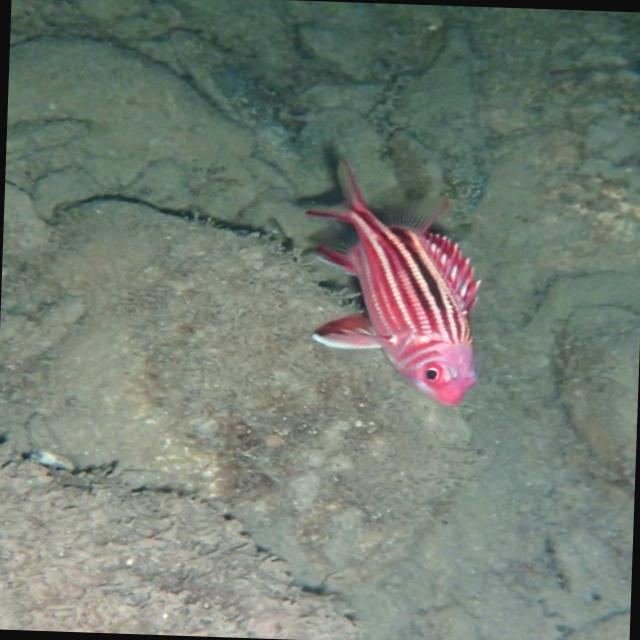Asker Baligi: (282, 146, 511, 410)
